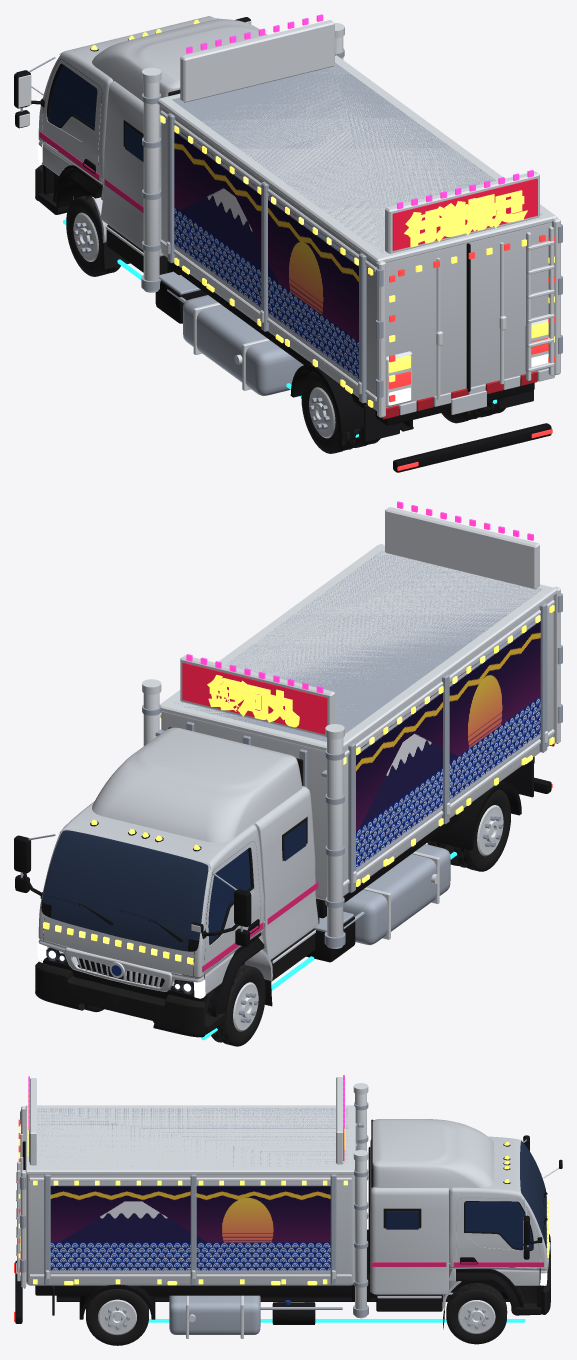
File: dekotora_truck_leve_chata.glb
3 renders of one model, top to bottom at view 1: azimuth 30°, elevation 25°; view 2: azimuth 150°, elevation 25°; view 3: azimuth 270°, elevation 25°, orthographic. The views are drawn at different scales.
Visible parts, largest first — view 1: truck_chrome, truck_paint_white_panel, truck_steel, truck_mural, truck_plastic_black, truck_lamp_amber, wheel_r_L_1.5_1.06, truck_glass, wheel_f_L, truck_andon_panel, truck_plastic_trim, truck_rubber (+6 smaller); view 2: truck_chrome, truck_paint_white_panel, truck_steel, truck_mural, truck_glass_wind, truck_plastic_black, truck_plastic_trim, truck_lamp_amber, truck_andon_panel, wheel_f_L, wheel_r_L_1.5_1.06, truck_glass (+3 smaller); view 3: truck_chrome, truck_paint_white_panel, truck_mural, truck_steel, truck_plastic_black, wheel_f_R, wheel_r_R_1.5_1.06, truck_glass, truck_plastic_trim, truck_glass_wind, truck_lamp_amber, truck_paint_pink (+1 smaller).
Part boxes in pixels (box(x1,y1,x2,y2)): truck_chrome: box(18, 20, 560, 417); truck_paint_white_panel: box(38, 16, 551, 410); truck_steel: box(20, 18, 562, 403); truck_mural: box(174, 131, 358, 381); truck_plastic_black: box(14, 17, 551, 472); truck_lamp_amber: box(91, 19, 554, 407); wheel_r_L_1.5_1.06: box(301, 371, 361, 453); truck_glass: box(49, 65, 143, 161); wheel_f_L: box(66, 195, 120, 276); truck_andon_panel: box(392, 178, 537, 250); truck_plastic_trim: box(35, 89, 180, 274); truck_rubber: box(103, 242, 533, 441); truck_chrome: box(29, 507, 560, 992); truck_paint_white_panel: box(38, 596, 553, 994); truck_steel: box(20, 550, 562, 947); truck_mural: box(356, 621, 540, 871); truck_glass_wind: box(42, 830, 208, 951); truck_plastic_black: box(14, 757, 551, 1016); truck_plastic_trim: box(35, 727, 315, 1037); truck_lamp_amber: box(43, 605, 554, 964); truck_andon_panel: box(182, 662, 327, 734); wheel_f_L: box(211, 964, 265, 1046); wheel_r_L_1.5_1.06: box(451, 789, 510, 871); truck_glass: box(208, 821, 306, 943); truck_chrome: box(16, 1077, 562, 1338); truck_paint_white_panel: box(26, 1119, 547, 1310); truck_mural: box(50, 1183, 330, 1272); truck_steel: box(20, 1102, 528, 1334); truck_plastic_black: box(15, 1135, 562, 1324); wheel_f_R: box(446, 1283, 507, 1344); wheel_r_R_1.5_1.06: box(86, 1289, 148, 1345); truck_glass: box(386, 1201, 533, 1249); truck_plastic_trim: box(371, 1119, 550, 1315); truck_glass_wind: box(520, 1141, 546, 1246); truck_lamp_amber: box(18, 1091, 548, 1285); truck_paint_pink: box(371, 1203, 543, 1266).
Size of the model in its own units: 3.33 by 3.91 by 9.02.
22 materials, 5 textured.
